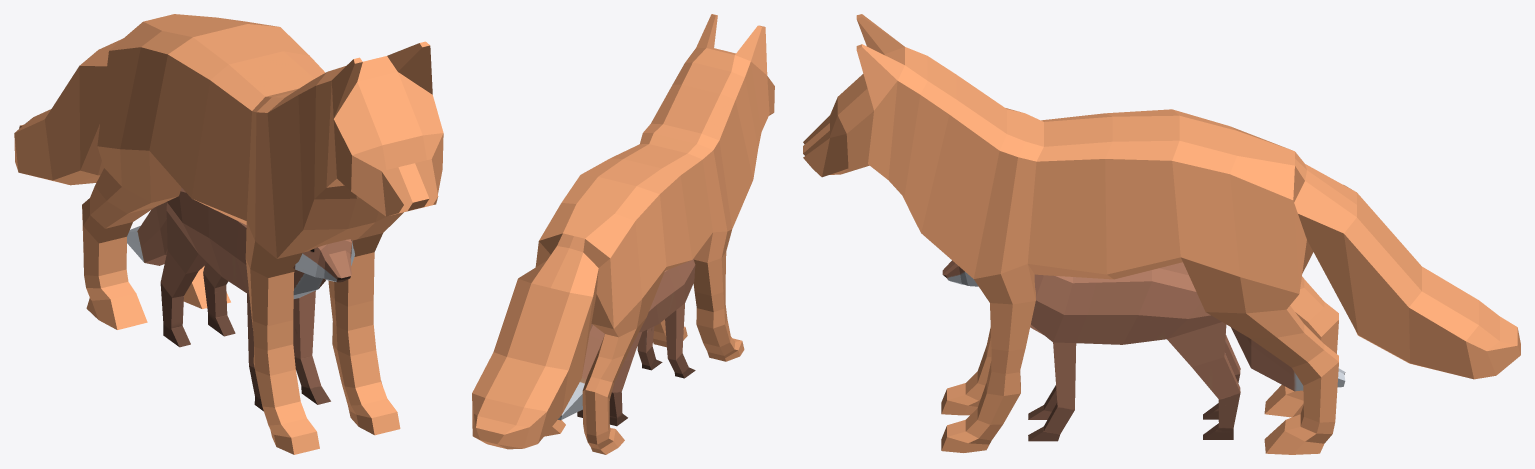
Rendered from foxFINAL.fbx.
The picture shows the model from 3 angles, left to right: view 1: azimuth 30°, elevation 25°; view 2: azimuth 150°, elevation 25°; view 3: azimuth 270°, elevation 25°; orthographic projection. The views are drawn at different scales.
Visible parts, largest first — view 1: Cube, Cube.001; view 2: Cube, Cube.001; view 3: Cube, Cube.001.
Boxes of the visible parts, x1=… form: Cube: x1=14, y1=14, x2=443, y2=454; Cube.001: x1=127, y1=187, x2=354, y2=411; Cube: x1=472, y1=14, x2=774, y2=454; Cube.001: x1=558, y1=259, x2=695, y2=426; Cube: x1=803, y1=14, x2=1520, y2=454; Cube.001: x1=942, y1=260, x2=1345, y2=441.
Size of the model in its own units: 91.88 by 433 by 264.
2 materials, 1 textured.
